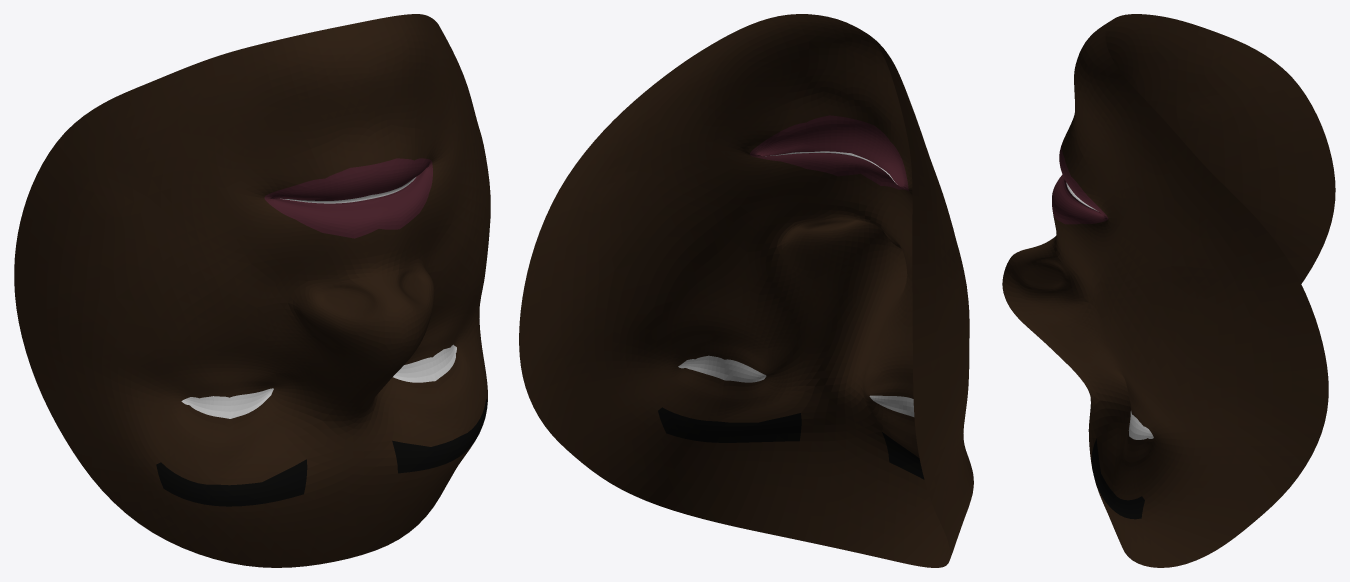
Rendered from VID-20250515-WA0005_f_00021.obj.
3 renders of one model, left to right at view 1: azimuth 30°, elevation 25°; view 2: azimuth 150°, elevation 25°; view 3: azimuth 270°, elevation 25°, orthographic. The views are drawn at different scales.
Visible parts, largest first — view 1: face_mesh_subdivided; view 2: face_mesh_subdivided; view 3: face_mesh_subdivided.
Part boxes in pixels (<box>): face_mesh_subdivided: <box>14,14,490,567</box>; face_mesh_subdivided: <box>519,14,973,567</box>; face_mesh_subdivided: <box>1002,14,1335,567</box>.
Size of the model in its own units: 0.4427 by 0.5509 by 0.3339.
